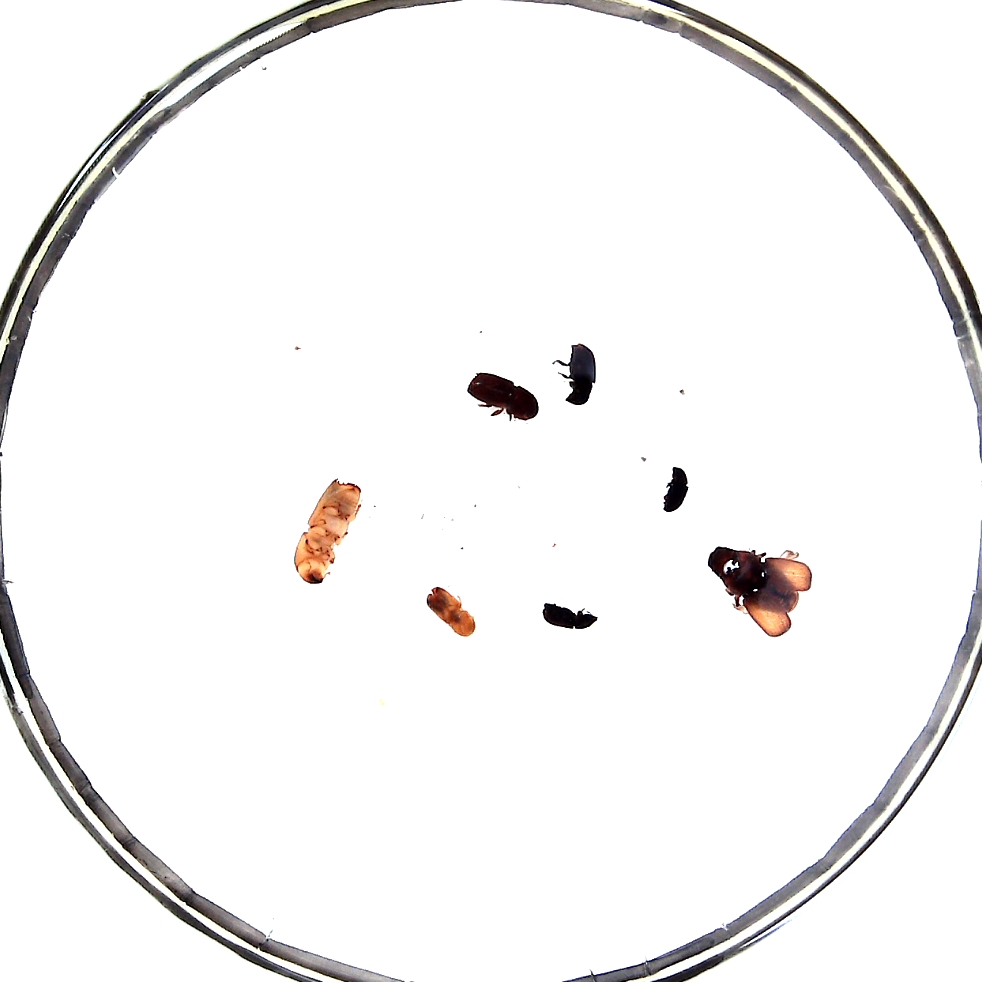Boerner: (290, 479, 357, 584)
Leconte: (711, 543, 812, 638)
Linnaeus: (467, 371, 541, 423)
acuminatus: (426, 583, 469, 634)
armandi: (560, 341, 597, 402)
coleoptera: (539, 601, 596, 634), (661, 465, 690, 511)
